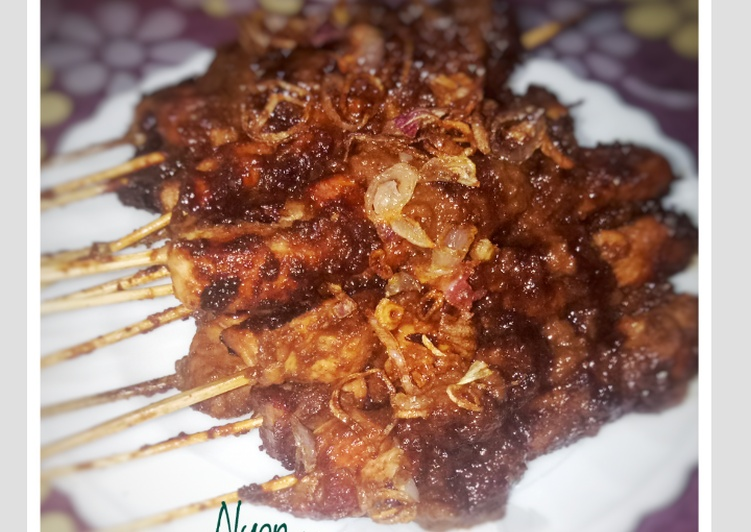sate_madura: (43, 3, 698, 522)
